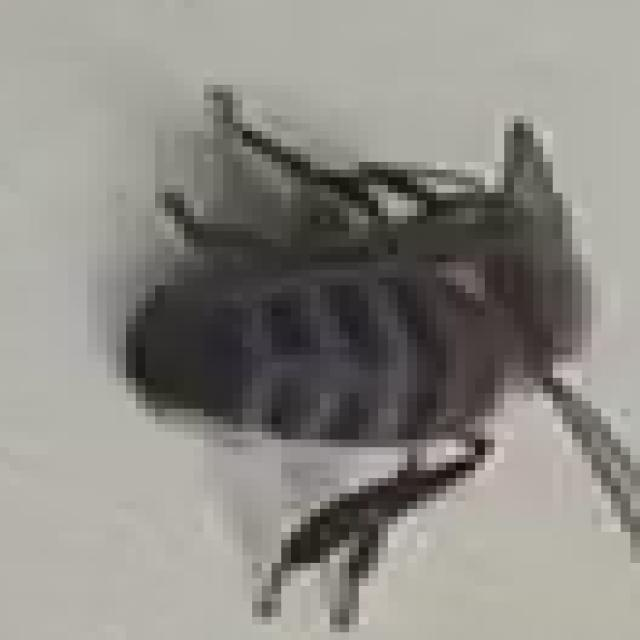honeybee: (106, 61, 640, 640)
